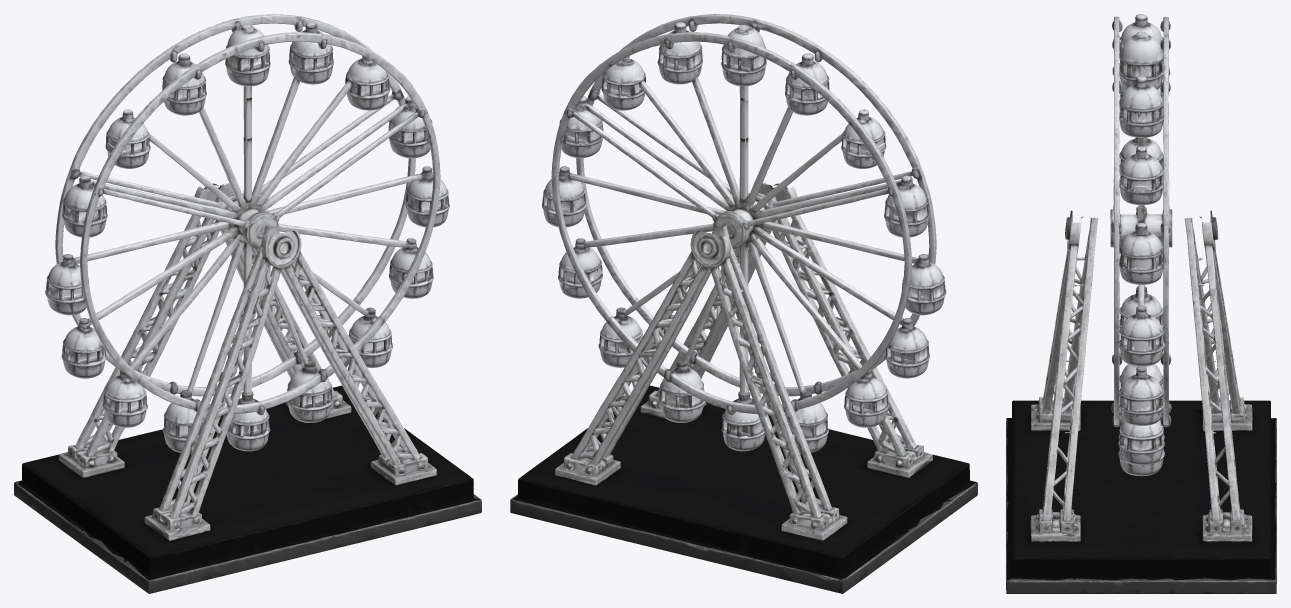
The model's file is ferris-wheel-pro.v1.glb.
3 views of the same model, side by side, from view 1: azimuth 30°, elevation 25°; view 2: azimuth 150°, elevation 25°; view 3: azimuth 270°, elevation 25° (orthographic).
Parts seen in each view (by area): view 1: FerrisWheelTrophy; view 2: FerrisWheelTrophy; view 3: FerrisWheelTrophy.
Boxes of the visible parts, x1=… form: FerrisWheelTrophy: x1=14, y1=14, x2=481, y2=593; FerrisWheelTrophy: x1=510, y1=14, x2=977, y2=593; FerrisWheelTrophy: x1=1006, y1=14, x2=1276, y2=593.
Size of the model in its own units: 0.8713 by 1 by 0.5125.
4 materials, 4 textured.
